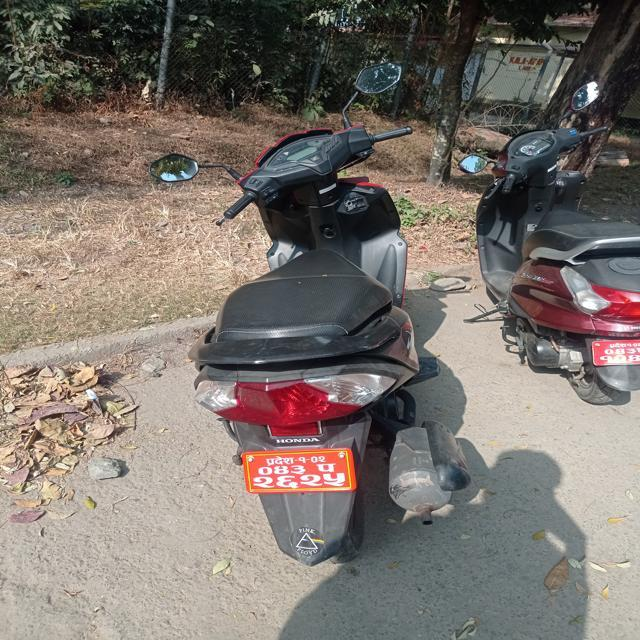license_plate: (241, 425, 367, 497)
